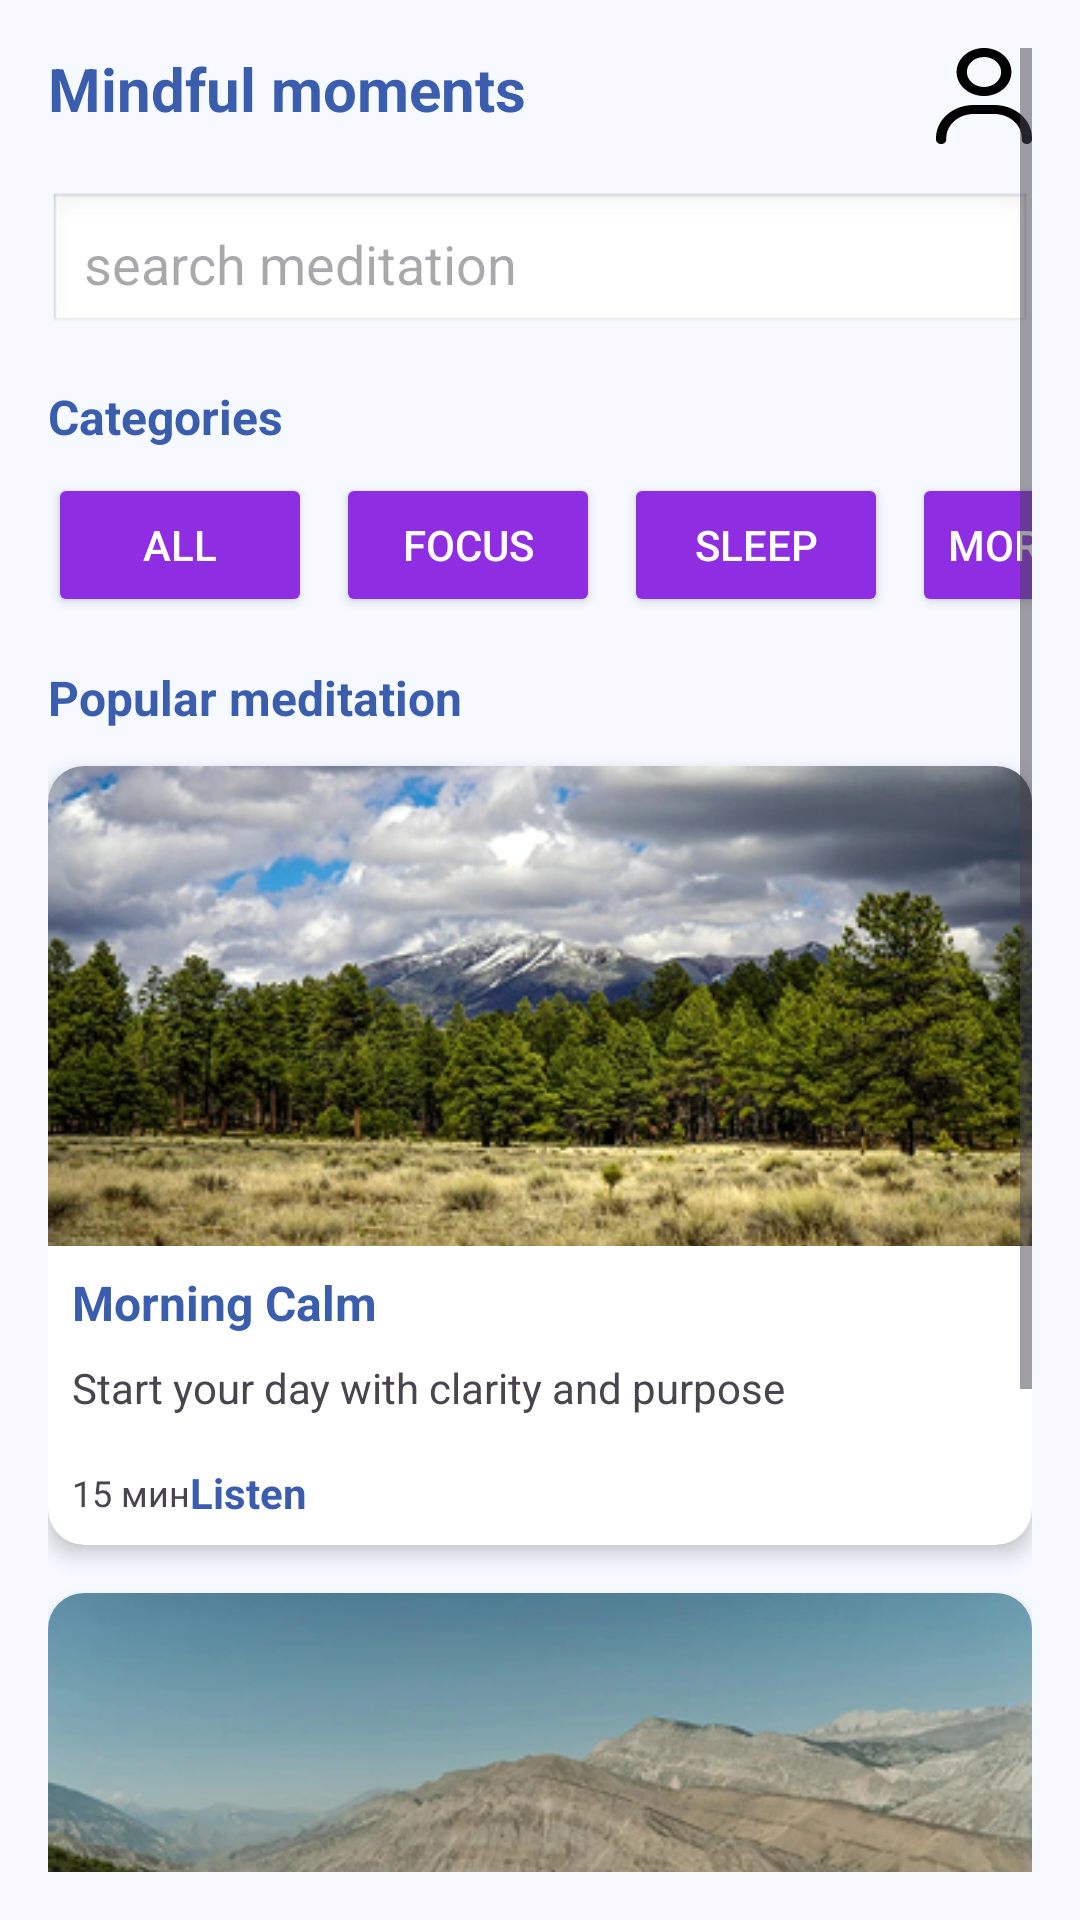

Named icons in this screenshot (1080×1920) and their centers, point (x, y):
Profile: point (984, 96)
